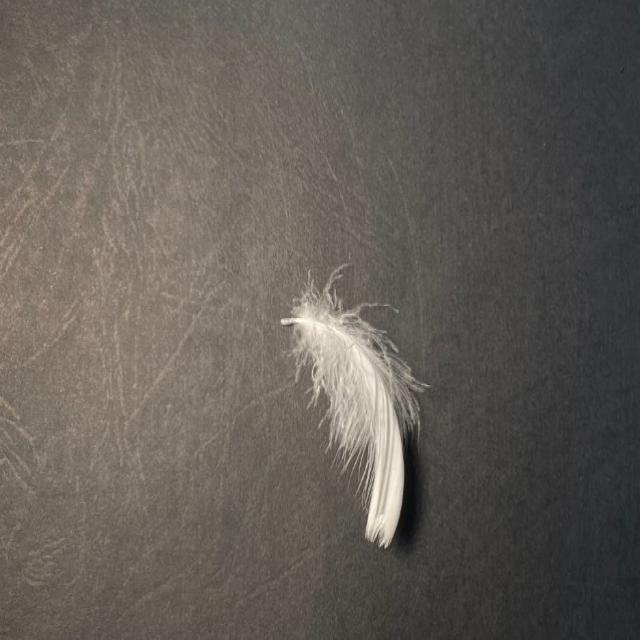feather: (275, 258, 432, 556)
